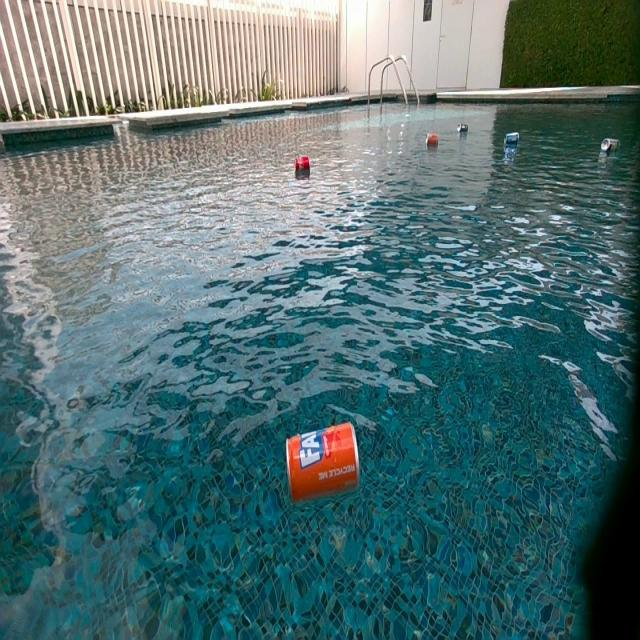Cans: (290, 419, 365, 509), (600, 138, 618, 154), (294, 157, 310, 174), (503, 132, 519, 148), (426, 132, 439, 148), (457, 121, 468, 131)
